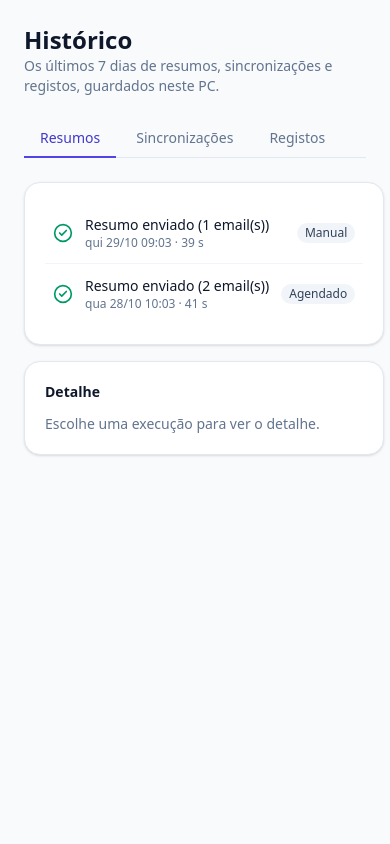
Test case: HistoryPage › assinala quando a IA falhou numa execução
Expected: the heading "Histórico" is shown, left=24, top=23, right=132, bottom=56
Click the button "Resumo enviado (1 email(s)) qui 29/10 09:03 · 39 s Manual" at [204, 233], box left=45, top=203, right=363, bottom=263
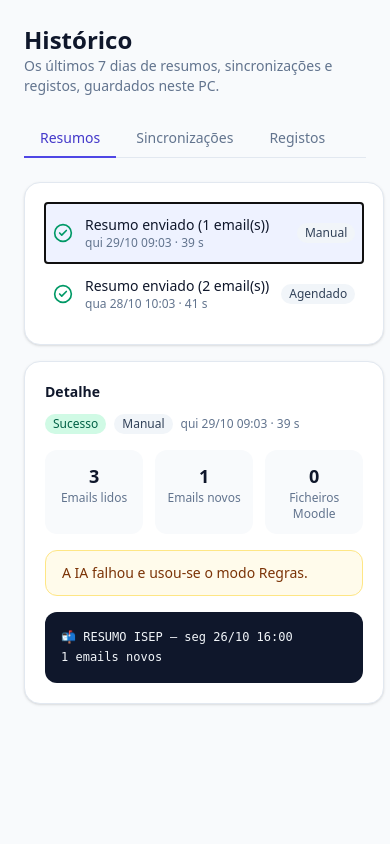
Expected: the text "A IA falhou e usou-se o modo Regras." is shown, left=45, top=550, right=363, bottom=596
